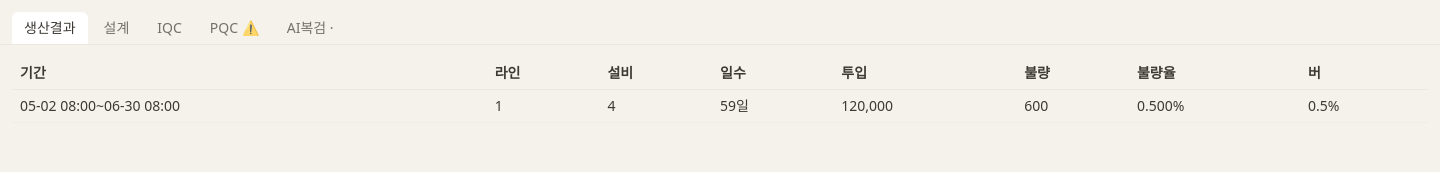
it: StageTabs › switches to the design tab on click
The width and height of the screenshot is (1440, 172).
Click the tab "설계".
click(116, 28)  # box [92,12,141,44]
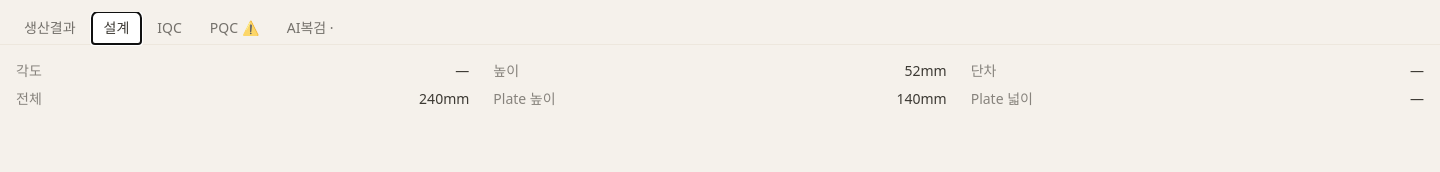
Expected: the text "각도" is shown, [16,61,42,81]
Expected: the table is gone
